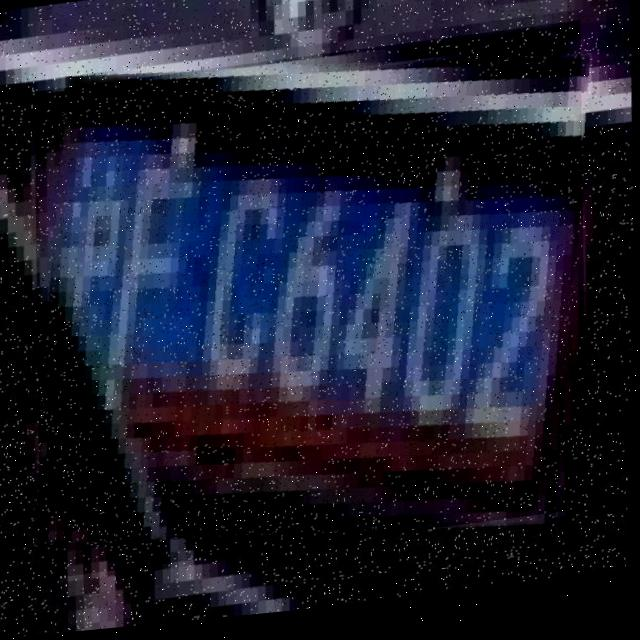LicensePlate: (26, 31, 597, 582)
